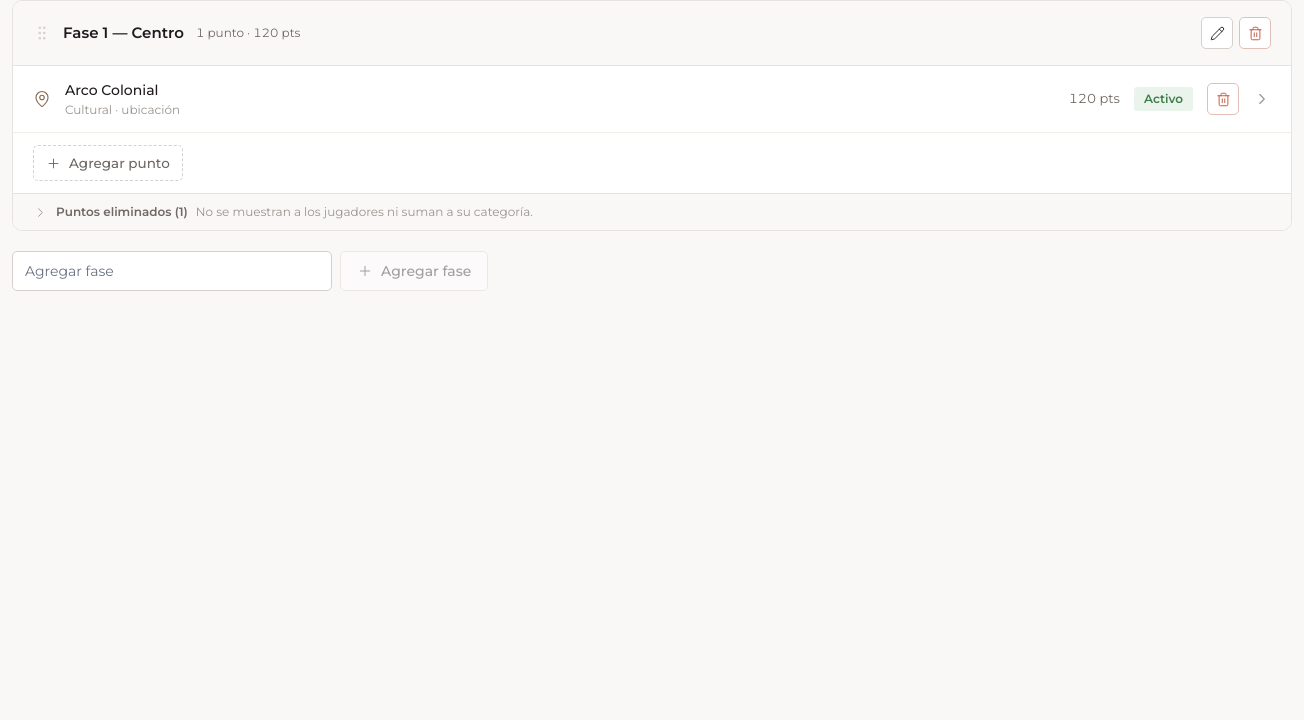
PhasesEditor — deleted (archived) waypoints › lists archived points apart, uncounted, and restores them on demand
Expected: the button "Arco Colonial" is shown, [65, 80, 158, 100]
Expected: the text "1 punto · 120 pts" is shown, [196, 25, 300, 41]
Click the button that starts with "Puntos eliminados" at [114, 212], box [13, 194, 1291, 230]
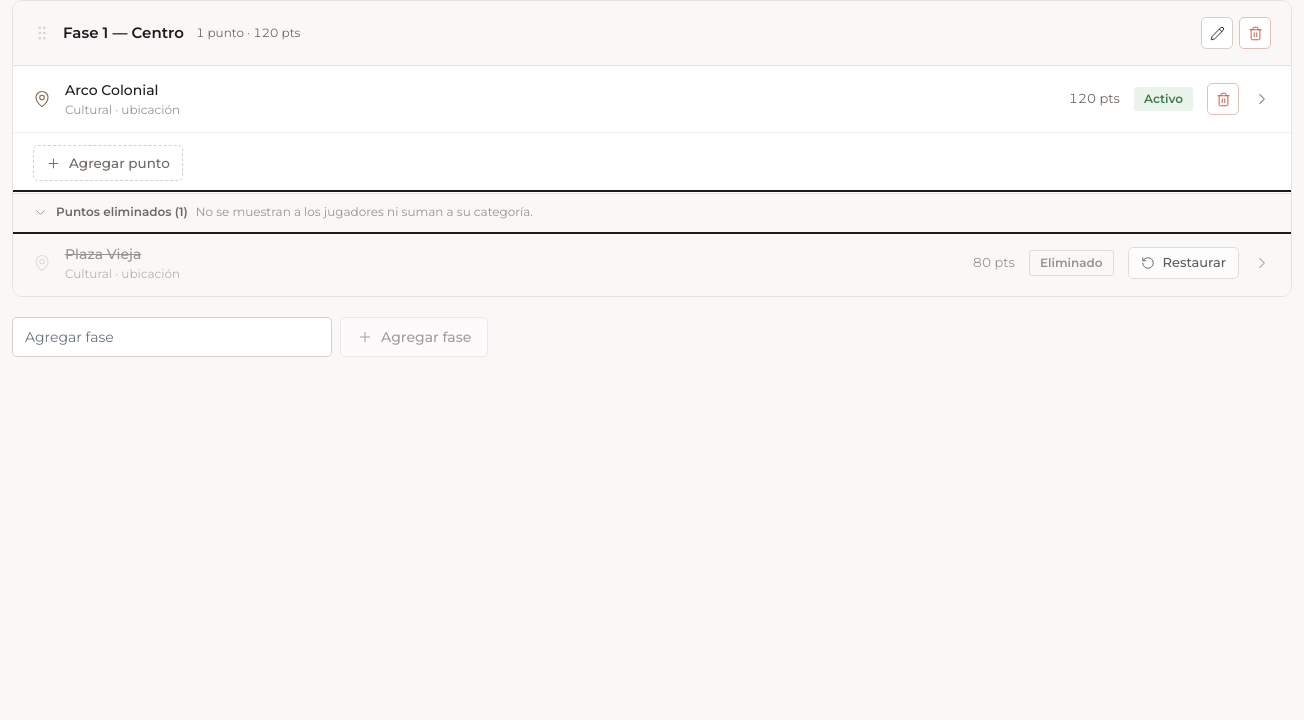
Now the button "Plaza Vieja" is shown, box [65, 244, 141, 264]
Now the text "Eliminado" is shown, box [1029, 250, 1114, 276]
Click the button "Restaurar" at [1183, 263], box [1128, 247, 1239, 279]
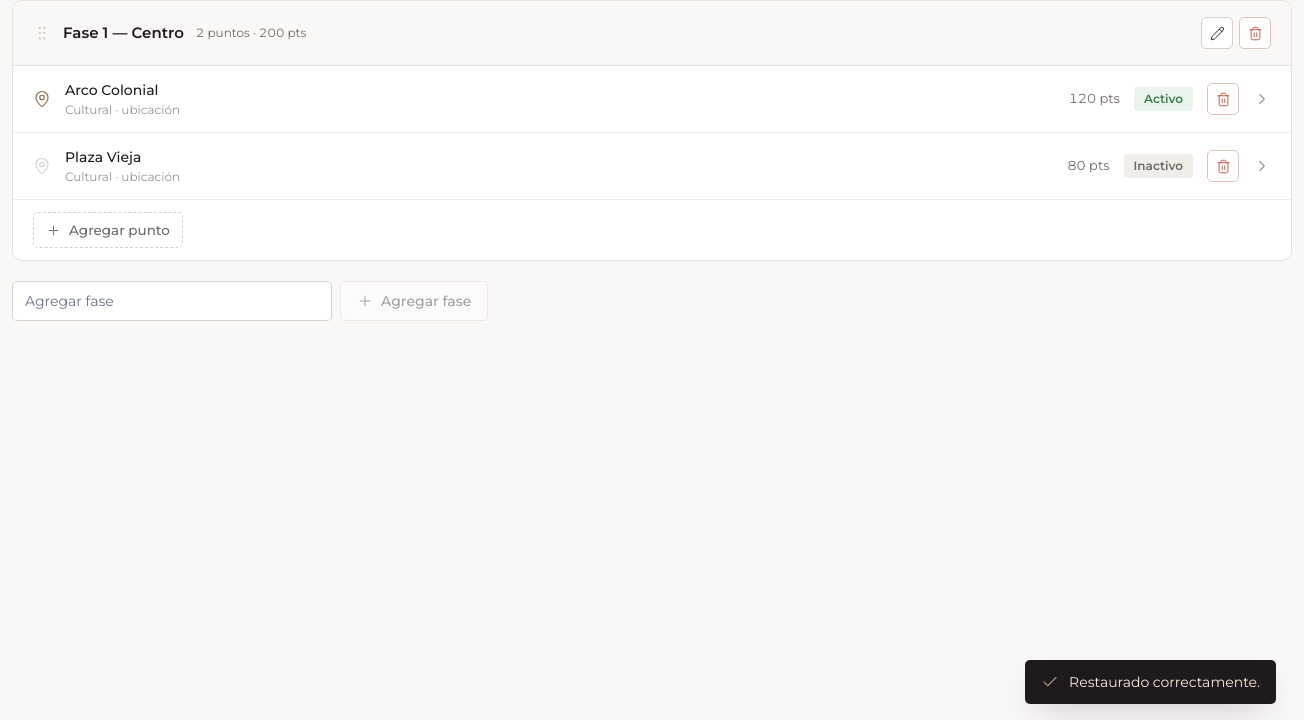
Now the text "2 puntos · 200 pts" is shown, box [196, 25, 306, 41]
Now the button "Puntos eliminados" is gone
Now the text "Inactivo" is shown, box [1124, 154, 1193, 178]
